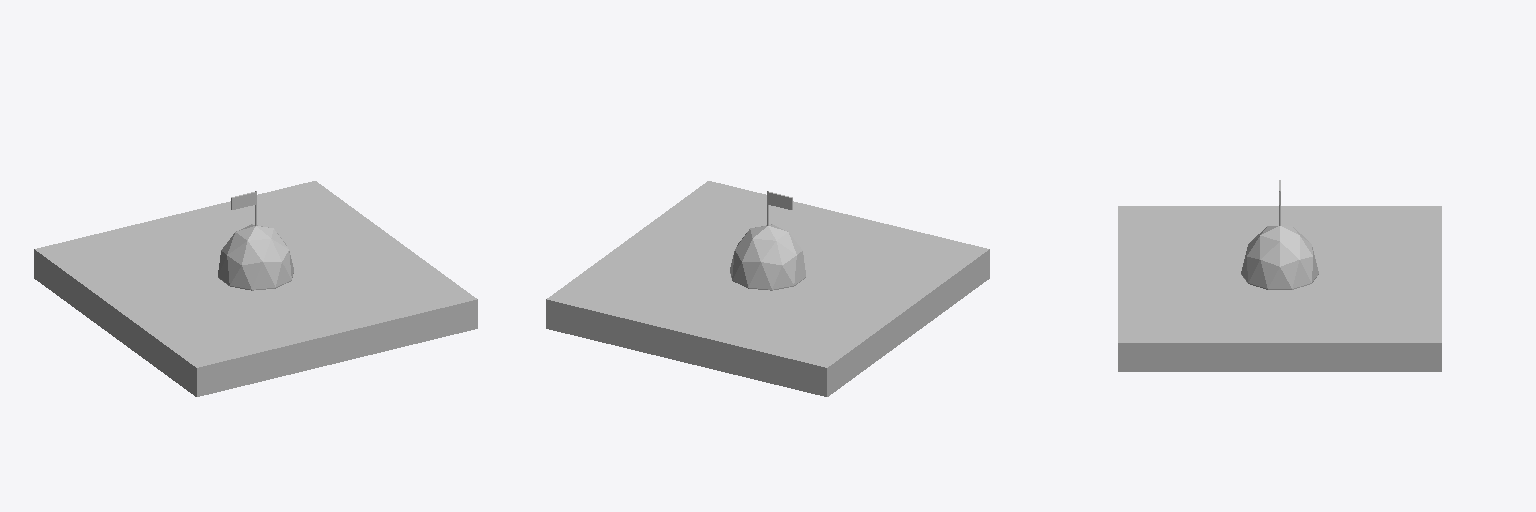
The model's file is depot.obj.
The picture shows the model from 3 angles: view 1: azimuth 30°, elevation 25°; view 2: azimuth 150°, elevation 25°; view 3: azimuth 270°, elevation 25°; orthographic projection.
Parts seen in each view (by area): view 1: Icosphere; view 2: Icosphere; view 3: Icosphere.
Part boxes in pixels (bbox=[...]): Icosphere: bbox=[34, 181, 477, 396]; Icosphere: bbox=[546, 181, 989, 396]; Icosphere: bbox=[1118, 180, 1441, 371].
Bounding box in the file's own units: 20 × 8.83 × 20.